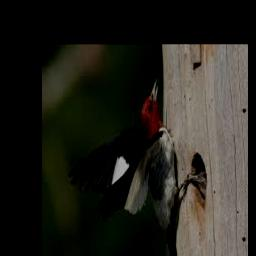Woodpecker: (70, 79, 205, 256)
